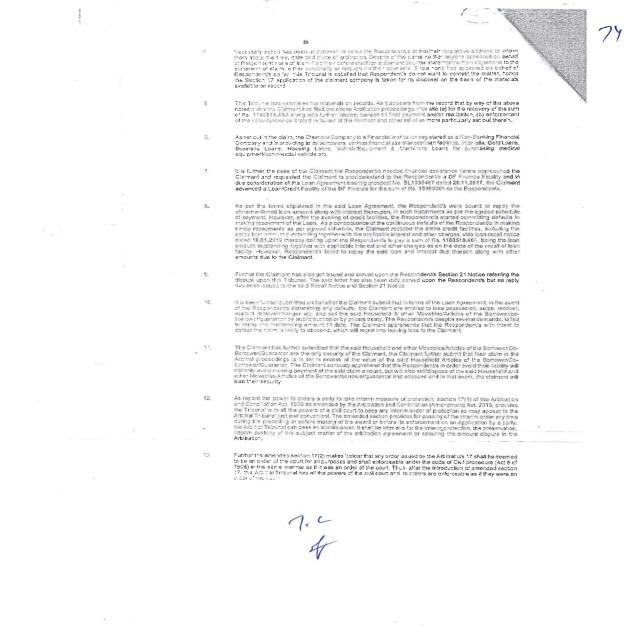page-number: (592, 3, 636, 243)
